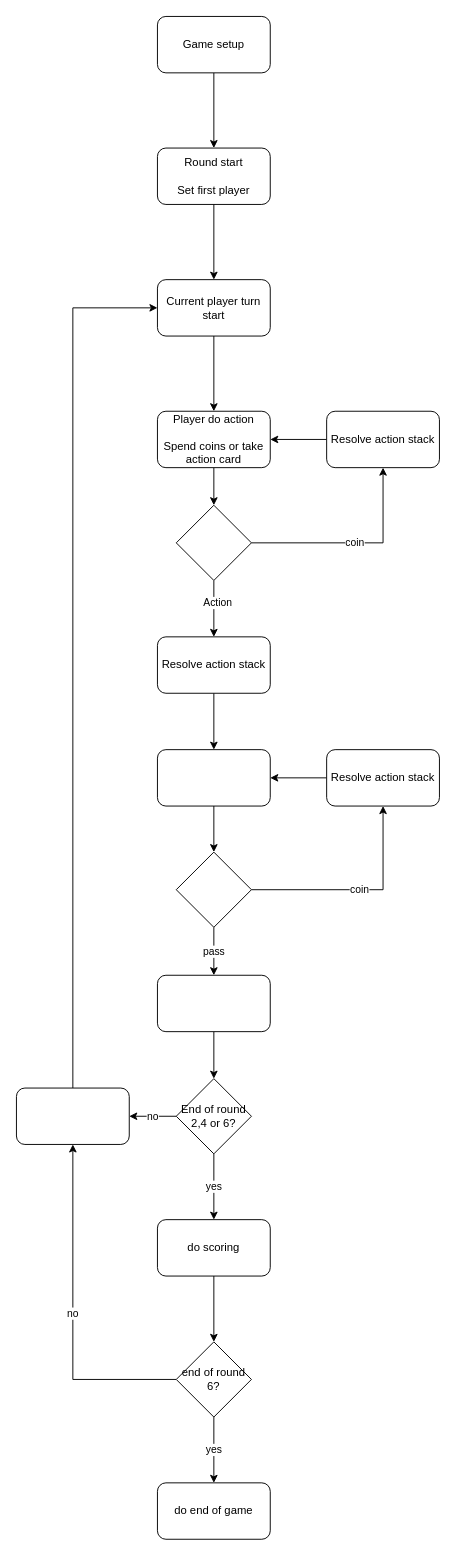
Image size: 456x1556. Some labels were removed from this diagram. The centre of each missing label's shape, as x and y in pixels:
action or coin: [213,542]
coin or pass: [213,889]
end of current player turn: [213,1003]
next player: [72,1115]
Spend coins or pass: [213,777]
